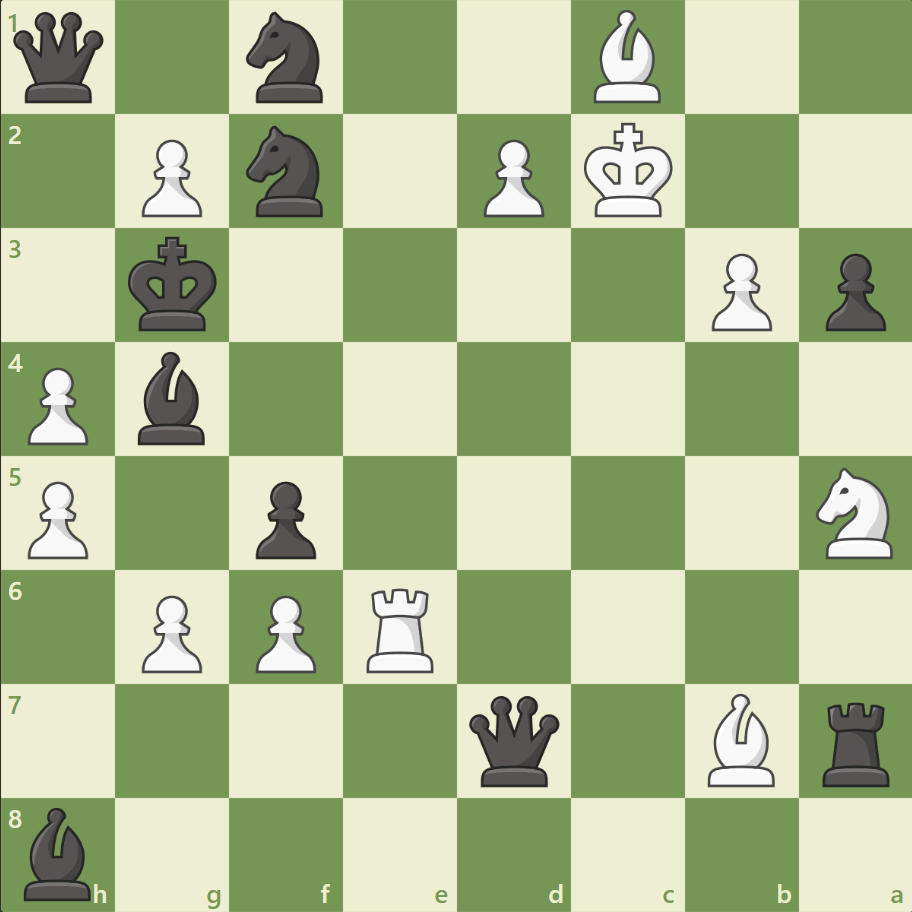B: (698, 687, 782, 790), (585, 6, 669, 109)
K: (579, 117, 679, 225)
N: (806, 461, 903, 564)
P: (247, 586, 322, 677), (133, 586, 208, 677), (20, 473, 95, 564), (20, 359, 95, 450), (701, 246, 776, 337), (474, 132, 549, 223), (133, 132, 208, 223)
R: (360, 579, 442, 676)
b: (17, 801, 101, 904), (131, 347, 215, 449)
k: (124, 231, 224, 339)
n: (238, 7, 335, 110), (238, 121, 335, 223)
p: (247, 473, 322, 564), (815, 246, 889, 337)
q: (464, 690, 563, 789), (10, 9, 109, 108)
r: (814, 693, 897, 790)
